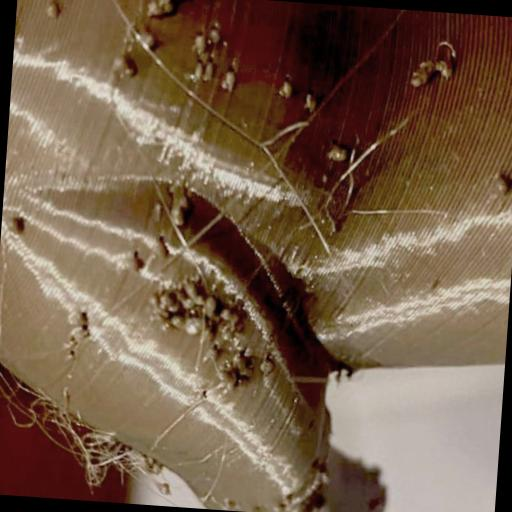blobs: (108, 51, 143, 80), (406, 56, 434, 88), (212, 368, 240, 394), (150, 236, 178, 262), (134, 27, 162, 53), (120, 249, 146, 275), (166, 204, 192, 230), (170, 188, 200, 210), (324, 144, 357, 164), (178, 280, 204, 304), (489, 172, 512, 199), (66, 322, 90, 346), (196, 292, 220, 316), (4, 212, 28, 236), (216, 321, 240, 344), (177, 317, 201, 339), (190, 32, 212, 56), (156, 285, 176, 311), (253, 354, 278, 374), (146, 0, 173, 18), (302, 91, 324, 113), (39, 0, 60, 23), (64, 306, 88, 326), (198, 58, 218, 82), (220, 70, 240, 92), (217, 302, 239, 320), (209, 30, 226, 48), (275, 78, 291, 96)
